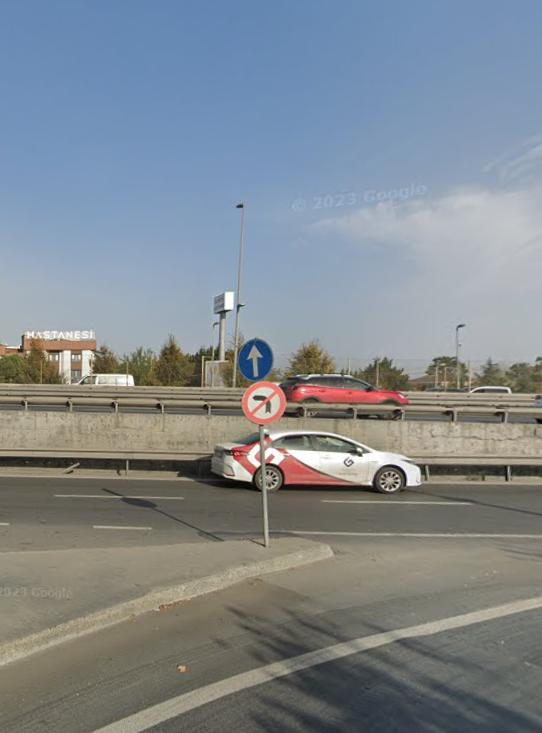forward: (235, 332, 283, 381)
leftturnsareforbidden: (239, 380, 287, 426)
